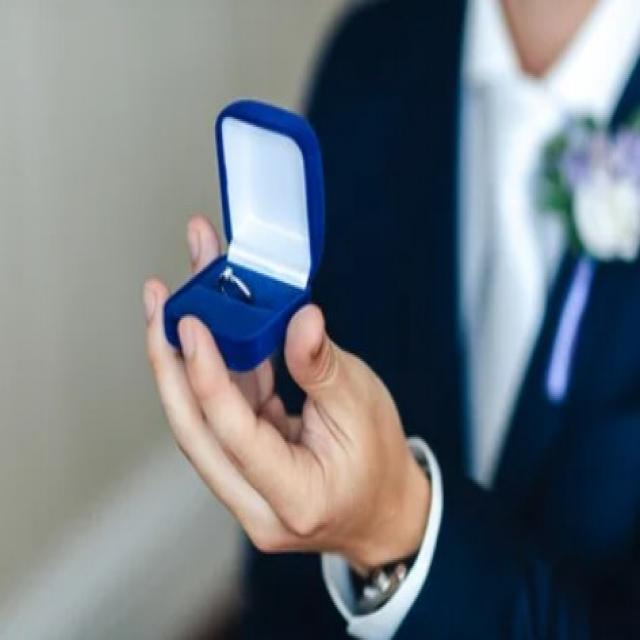Watch: (345, 563, 414, 614)
